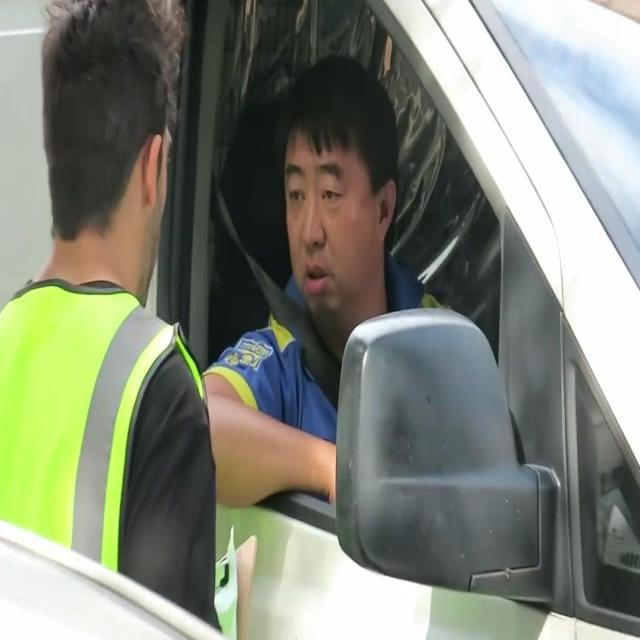Vest: (0, 280, 208, 573)
